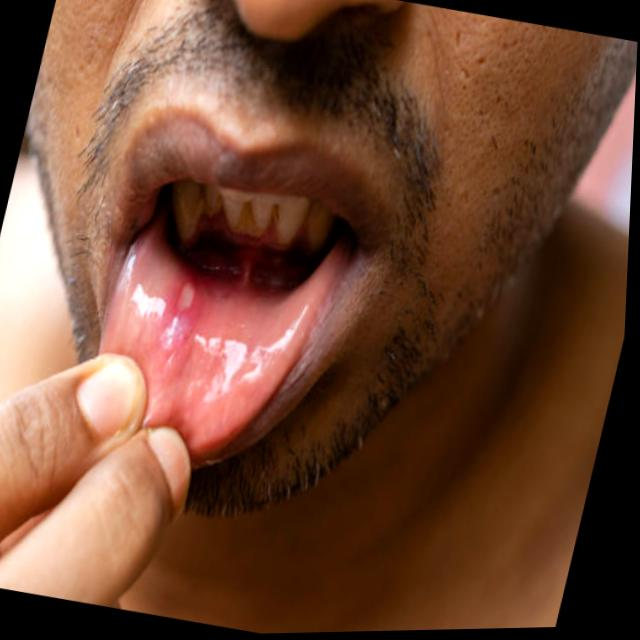ulcer: (165, 276, 204, 339)
